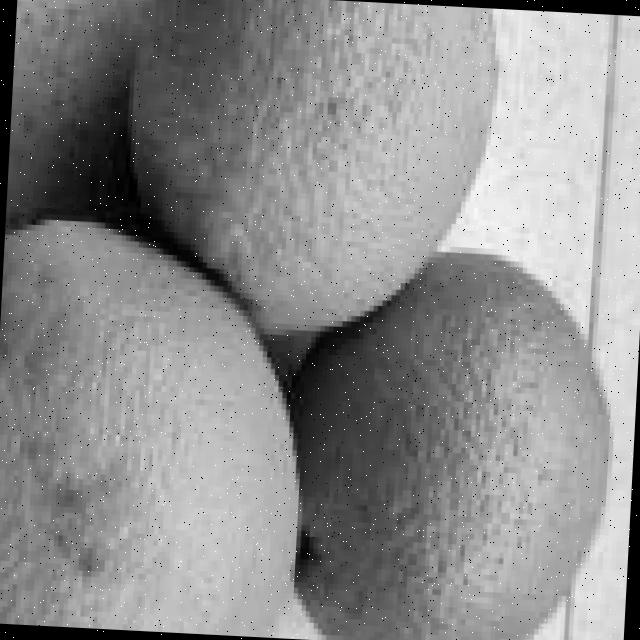Good_Orange-15-21 days: (0, 0, 609, 640)
